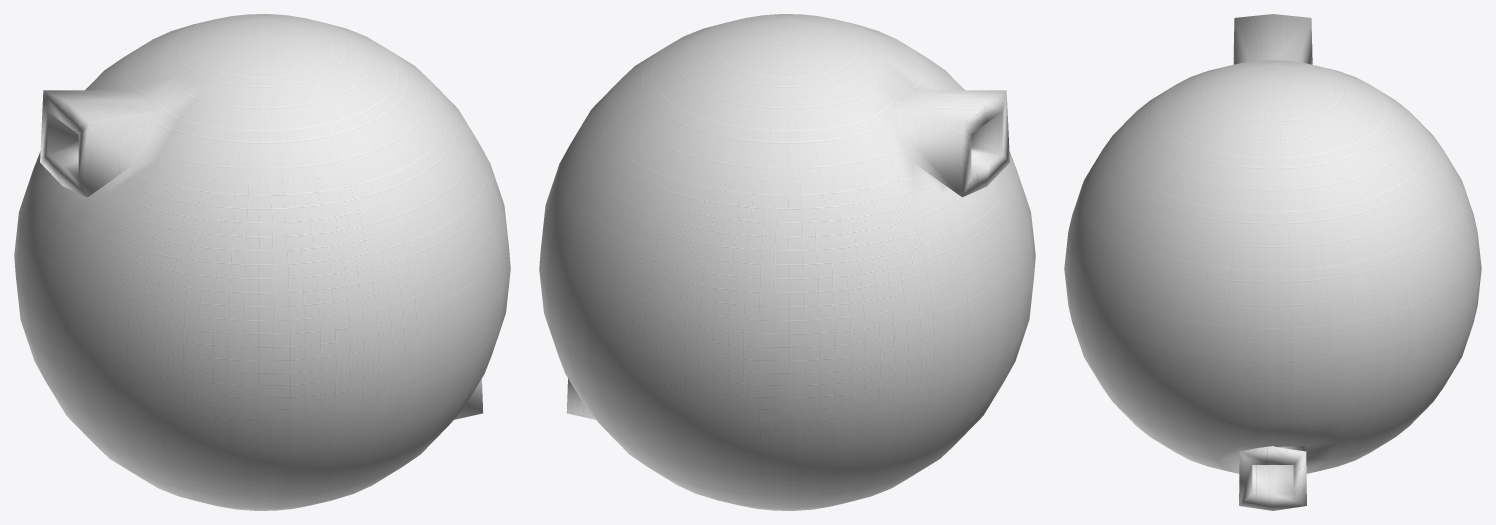
Rendered from sphere_level.glb.
3 renders of one model, left to right at view 1: azimuth 30°, elevation 25°; view 2: azimuth 150°, elevation 25°; view 3: azimuth 270°, elevation 25°, orthographic. The views are drawn at different scales.
Parts seen in each view (by area): view 1: Sphere; view 2: Sphere; view 3: Sphere.
Boxes of the visible parts, bbox=[...] form: Sphere: bbox=[14, 14, 510, 510]; Sphere: bbox=[539, 14, 1035, 510]; Sphere: bbox=[1064, 14, 1481, 510].
Size of the model in its own units: 43.19 by 43.19 by 43.19.
Materials: 2 (1 with a texture image).
